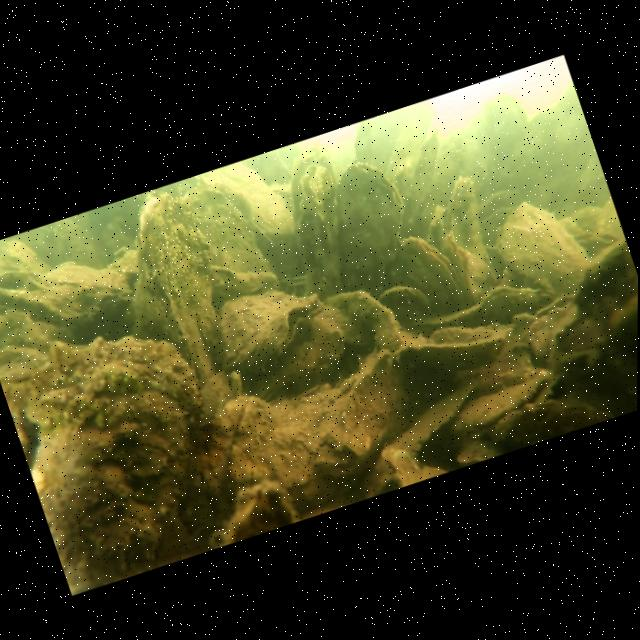Oyster-Closed: (108, 181, 253, 397), (256, 345, 425, 490), (182, 384, 309, 535), (316, 151, 431, 303), (483, 183, 600, 310), (403, 270, 554, 356), (482, 376, 613, 458), (30, 242, 140, 337), (448, 370, 565, 446), (388, 224, 471, 322), (435, 173, 500, 278)
Oyster-Indeterminate: (0, 305, 248, 598), (516, 237, 638, 432), (332, 374, 501, 503), (176, 168, 277, 305), (379, 277, 436, 330)
Oyster-Open: (203, 271, 337, 385), (270, 150, 370, 299), (515, 288, 585, 341)
